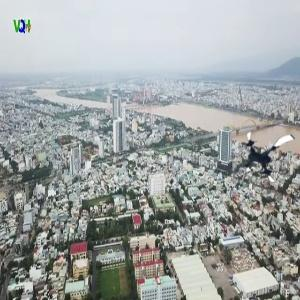drone: (238, 124, 300, 187)
